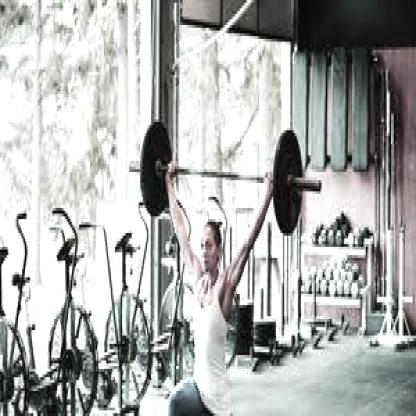Barbell: (315, 170, 327, 200)
